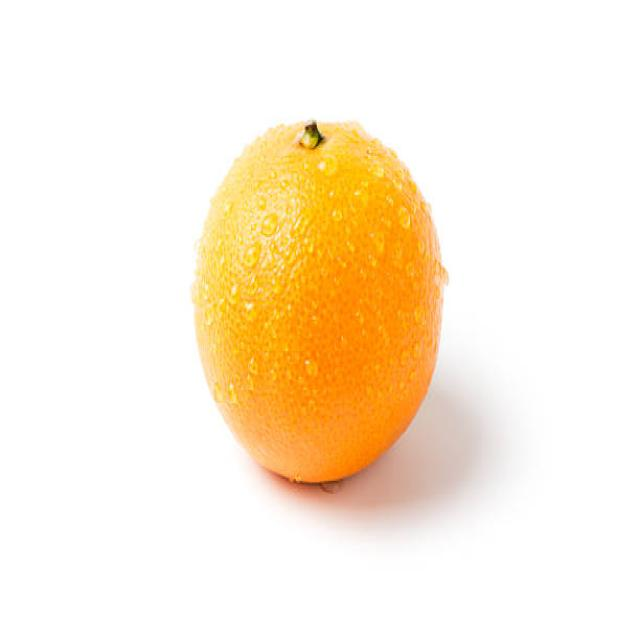Ripe: (190, 112, 448, 491)
